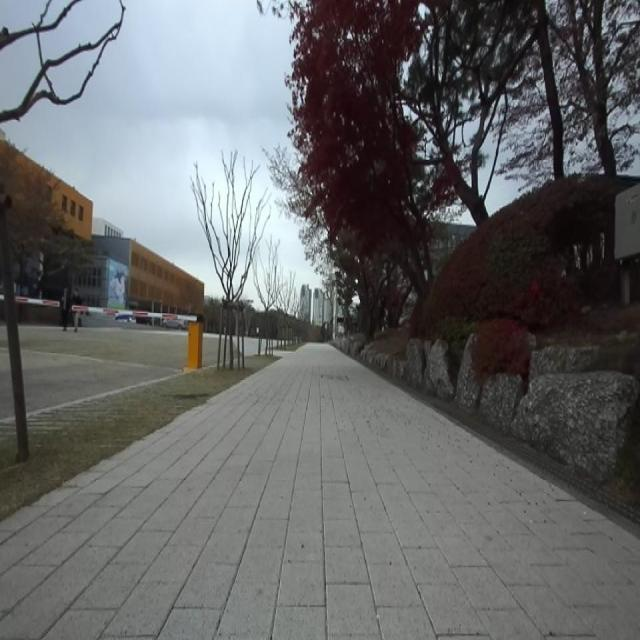sidewalk: (0, 343, 640, 639)
